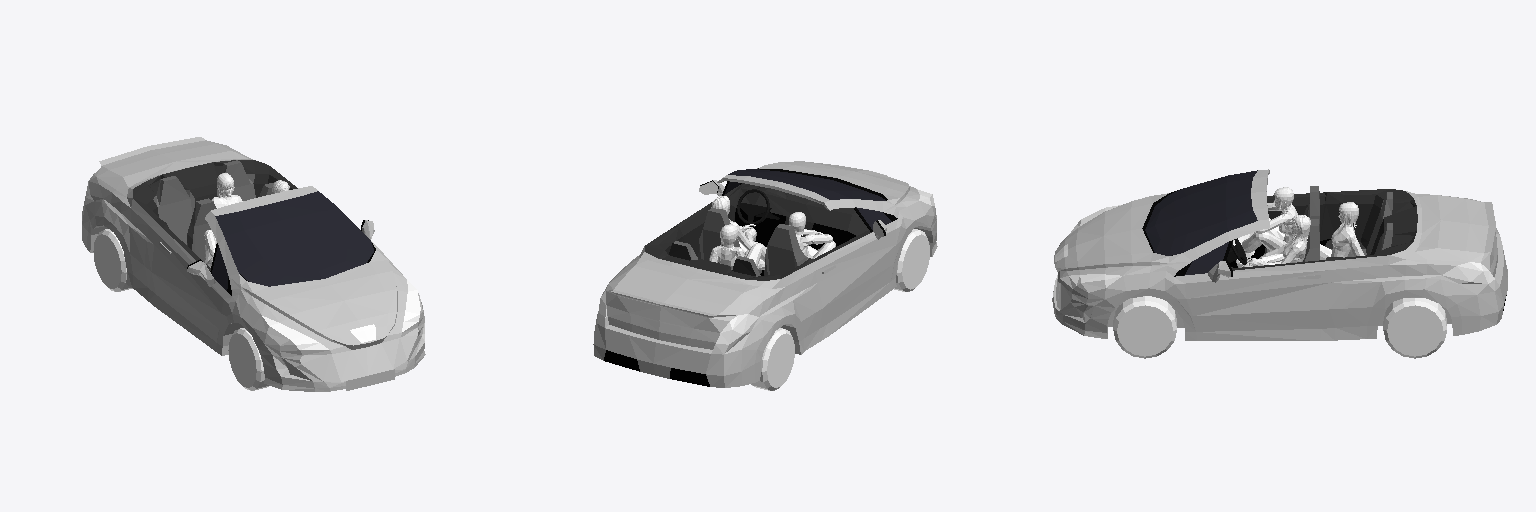
The model's file is peugeot308cc.obj.
3 renders of one model, left to right at view 1: azimuth 30°, elevation 25°; view 2: azimuth 150°, elevation 25°; view 3: azimuth 270°, elevation 25°, orthographic.
Parts seen in each view (by area): view 1: 5, 12, 17, 10, 14, 13, 7, 6; view 2: 5, 10, 17, 12, 8, 7, 6, 15, obj1221polySurface1161_21, obj1221polySurface1161_18, 3, 9; view 3: 5, 12, 10, 7, 6, 17, obj1221polySurface1161_18, obj1221polySurface1161_21, 13, Object01_24, 15.
Boxes of the visible parts, <box> form: 5: <box>82,137,425,391</box>; 12: <box>212,191,373,290</box>; 17: <box>153,160,274,261</box>; 10: <box>133,160,297,270</box>; 14: <box>300,328,418,381</box>; 13: <box>262,280,424,376</box>; 7: <box>95,238,254,384</box>; 6: <box>93,229,268,390</box>; 5: <box>593,161,937,387</box>; 10: <box>645,183,871,280</box>; 17: <box>674,207,806,276</box>; 12: <box>724,169,891,229</box>; 8: <box>604,208,855,386</box>; 7: <box>769,238,927,384</box>; 6: <box>751,229,929,390</box>; 15: <box>598,285,758,344</box>; obj1221polySurface1161_21: <box>709,243,766,269</box>; obj1221polySurface1161_18: <box>796,229,835,259</box>; 3: <box>737,189,779,224</box>; 9: <box>700,168,897,235</box>; 5: <box>1052,169,1507,340</box>; 12: <box>1145,170,1257,275</box>; 10: <box>1231,189,1417,270</box>; 7: <box>1121,309,1439,352</box>; 6: <box>1113,296,1446,358</box>; 17: <box>1264,186,1392,261</box>; obj1221polySurface1161_18: <box>1233,203,1297,257</box>; obj1221polySurface1161_21: <box>1236,223,1364,267</box>; 13: <box>1060,205,1121,322</box>; Object01_24: <box>1243,235,1306,266</box>; 15: <box>1443,262,1494,283</box>.
Size of the model in its own units: 210 by 139 by 444.